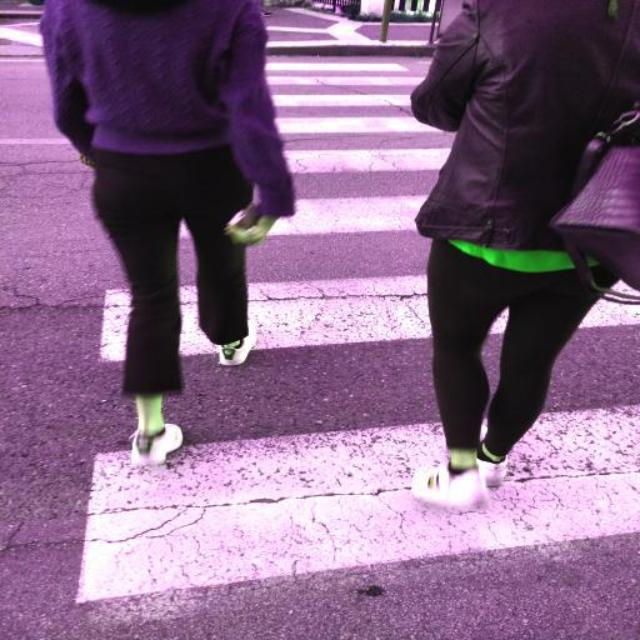sidewalk: (82, 57, 640, 605)
